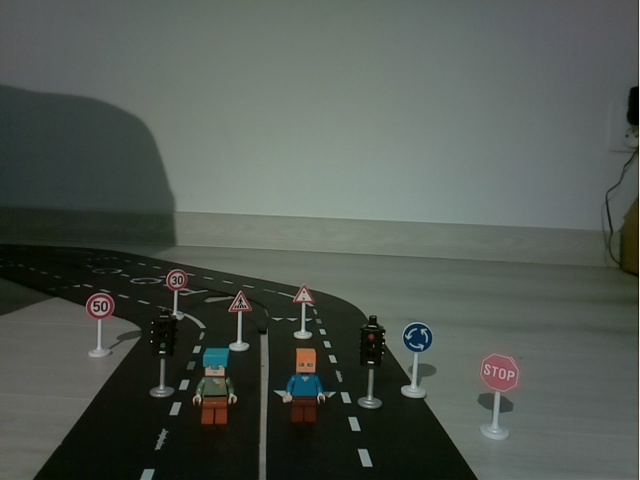green light: (151, 314, 177, 405)
limit 30: (164, 267, 190, 314)
limit 50: (82, 289, 118, 361)
pedestrian sign: (225, 288, 254, 350)
person: (284, 348, 328, 429)
red light: (352, 312, 390, 417)
round: (396, 320, 438, 403)
second person: (190, 347, 238, 426)
stop: (473, 350, 525, 445)
traffic light sign: (290, 280, 318, 343)
